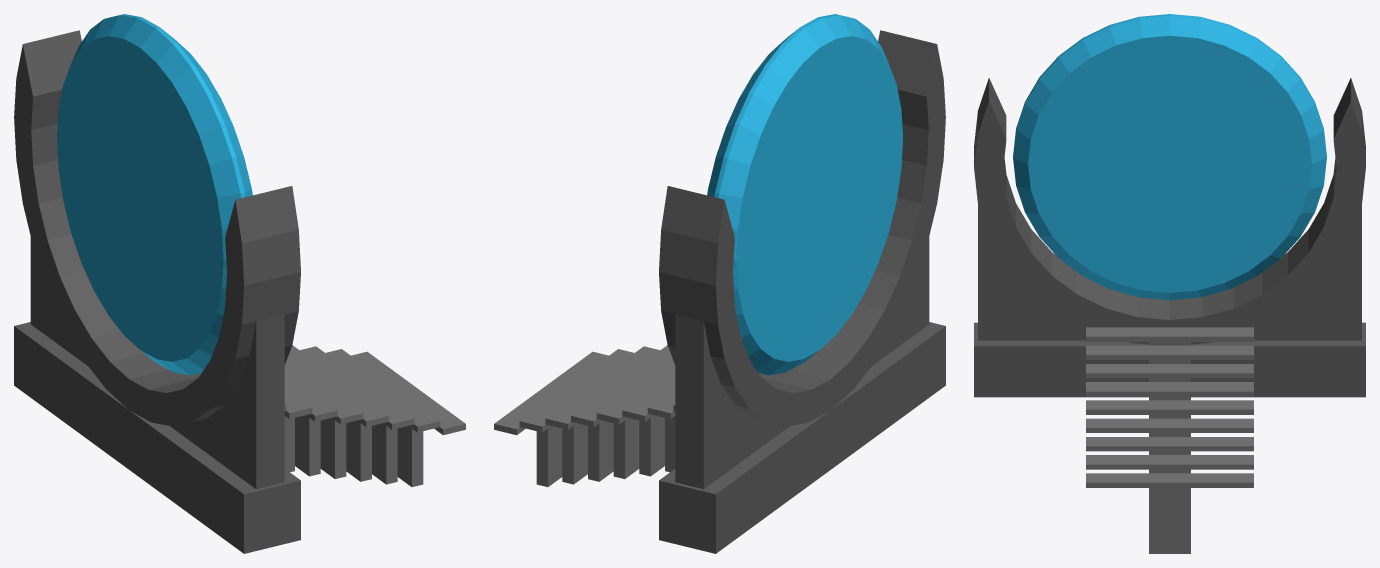
File: portal.fbx
The picture shows the model from 3 angles, left to right: view 1: azimuth 30°, elevation 25°; view 2: azimuth 150°, elevation 25°; view 3: azimuth 270°, elevation 25°; orthographic projection. The views are drawn at different scales.
Parts seen in each view (by area): view 1: Cube, Cylinder, Cube.001; view 2: Cube, Cylinder, Cube.001; view 3: Cylinder, Cube, Cube.001.
Boxes of the visible parts, x1,y1,x2,y2 form: Cube: [14, 30, 300, 553]; Cylinder: [57, 14, 252, 375]; Cube.001: [201, 345, 465, 486]; Cube: [659, 30, 945, 553]; Cylinder: [707, 14, 902, 375]; Cube.001: [494, 345, 758, 486]; Cylinder: [1013, 14, 1326, 300]; Cube: [974, 78, 1365, 397]; Cube.001: [1086, 327, 1253, 553].
Bounding box in the file's own units: 1010 × 1711 × 1400.
